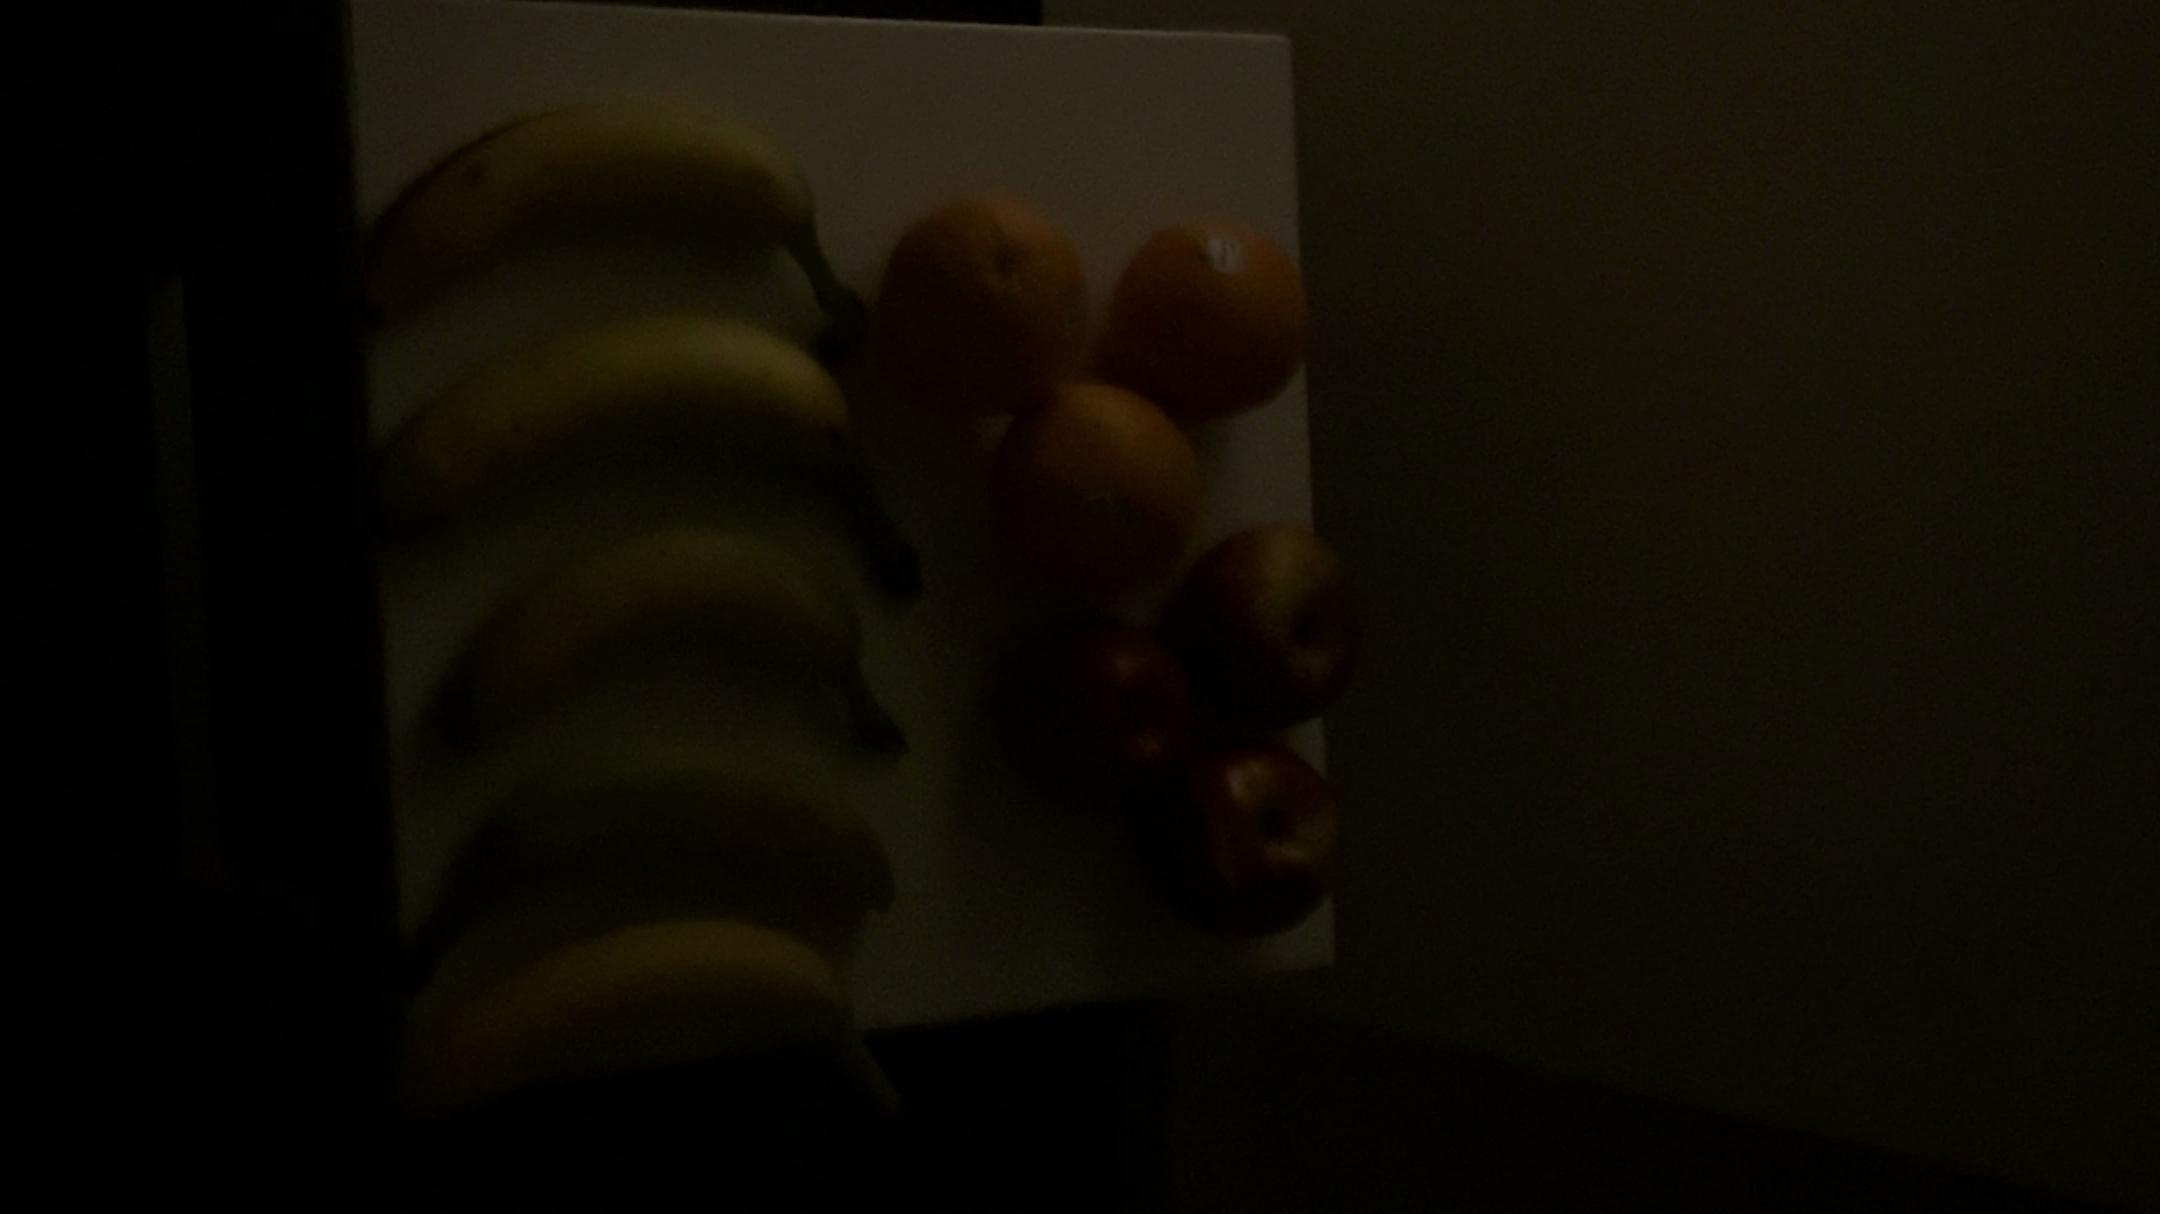apple: (1176, 522, 1369, 733), (995, 583, 1185, 784), (1162, 749, 1346, 948)
banana: (371, 531, 926, 776), (353, 95, 868, 337), (363, 335, 906, 540), (372, 767, 932, 960), (392, 919, 899, 1106)
orange: (1111, 197, 1319, 427), (875, 186, 1093, 402), (991, 384, 1211, 568)
